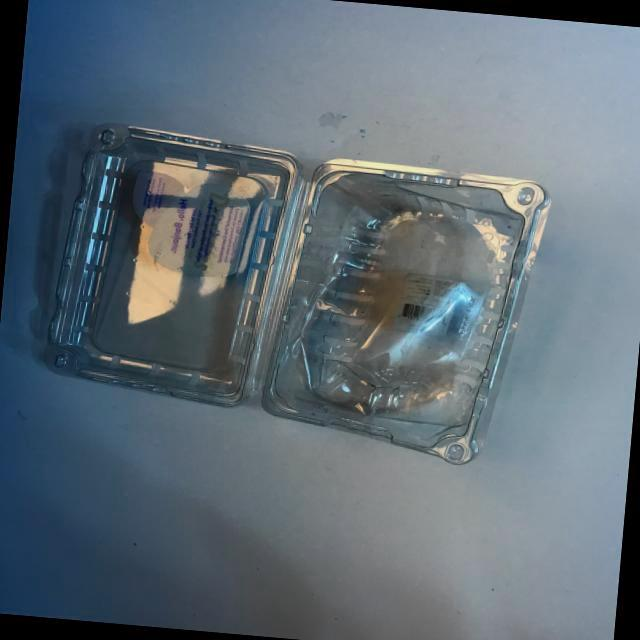plastic: (23, 91, 564, 508)
